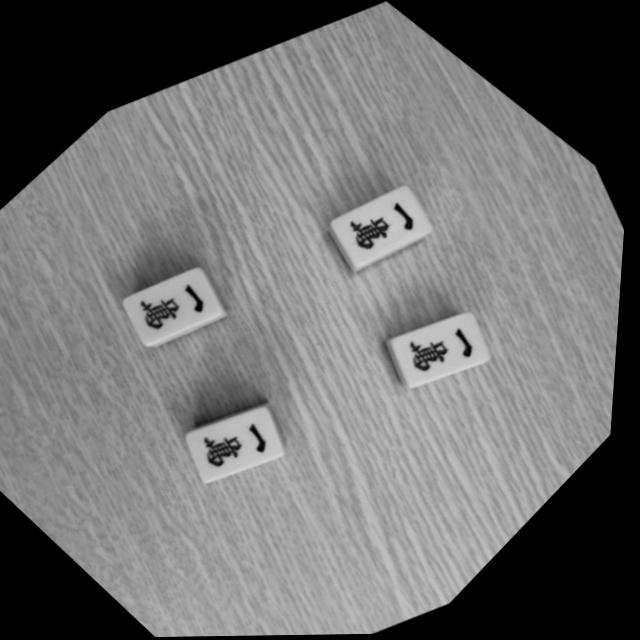sc1: (323, 161, 444, 279), (117, 242, 239, 359), (185, 383, 302, 497), (385, 289, 502, 402)
